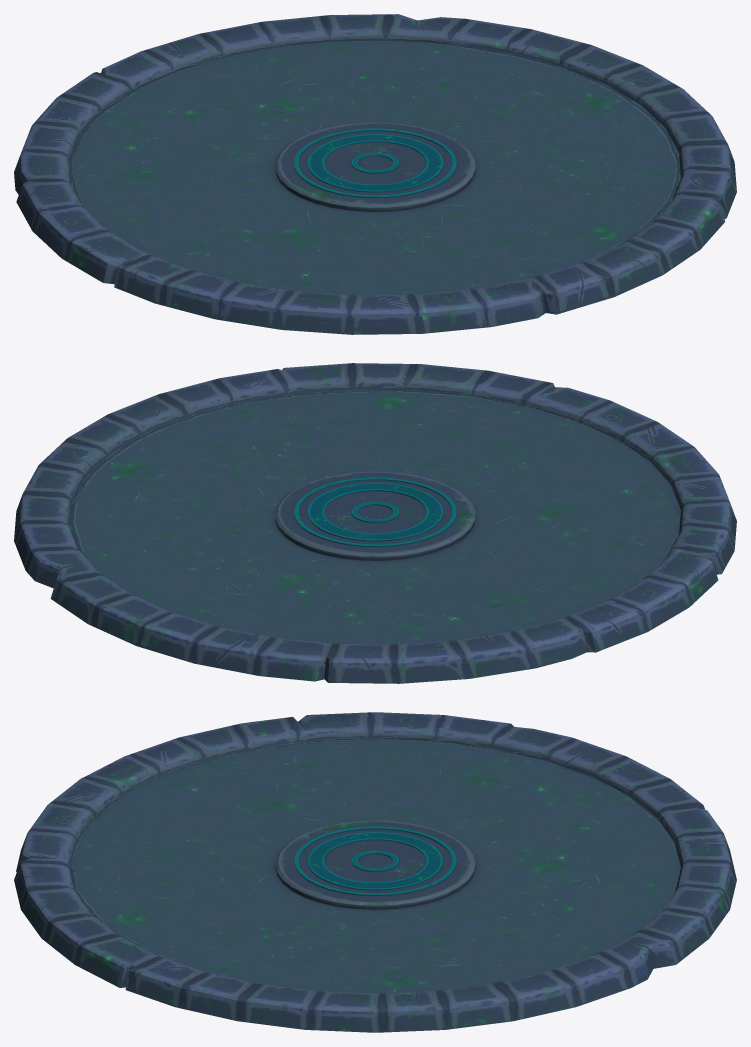
Rendered from StonePlatform.obj.
3 views of the same model, one above another, from view 1: azimuth 30°, elevation 25°; view 2: azimuth 150°, elevation 25°; view 3: azimuth 270°, elevation 25° (orthographic).
Visible parts, largest first — view 1: Circle_Stone_01_B_Cylinder.001; view 2: Circle_Stone_01_B_Cylinder.001; view 3: Circle_Stone_01_B_Cylinder.001.
Part boxes in pixels (x1,y1,x2,y2): Circle_Stone_01_B_Cylinder.001: (14,14,736,334); Circle_Stone_01_B_Cylinder.001: (14,363,736,683); Circle_Stone_01_B_Cylinder.001: (14,712,736,1032).
Bounding box in the file's own units: 8.46 × 0.2518 × 8.46.
1 material, 1 textured.
